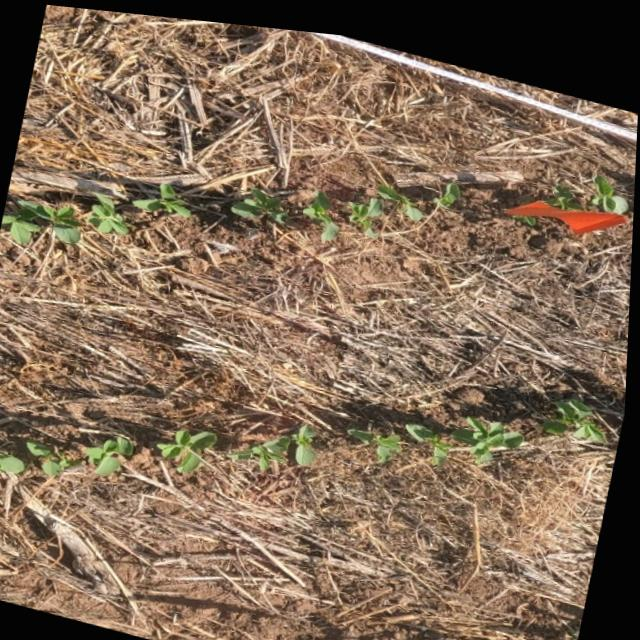soy_plant: (350, 176, 427, 229), (233, 417, 320, 463), (3, 198, 83, 242), (456, 406, 528, 452), (548, 386, 609, 428), (163, 425, 221, 468), (233, 180, 292, 218), (89, 433, 138, 473), (135, 179, 192, 213), (304, 184, 342, 233), (353, 419, 406, 454), (410, 415, 456, 453), (32, 440, 82, 474), (89, 192, 132, 230), (593, 163, 629, 198), (549, 171, 583, 197), (0, 444, 30, 472), (435, 169, 463, 197), (518, 204, 538, 214), (415, 630, 433, 640)
